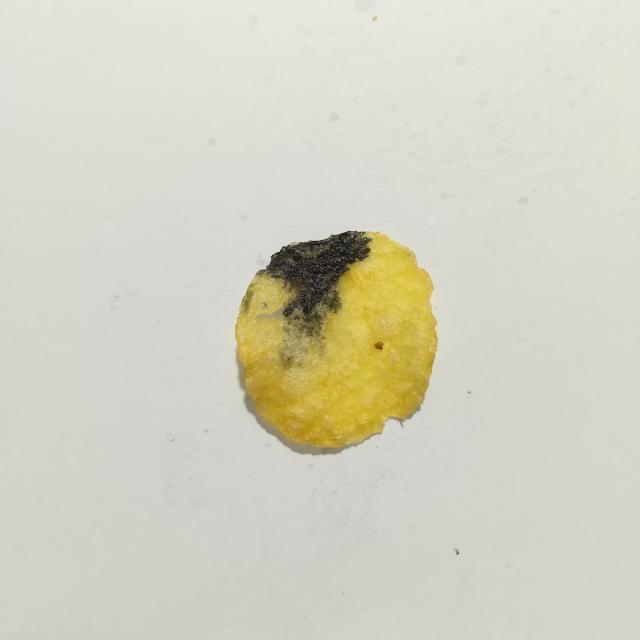chip: (235, 231, 437, 447)
damaged: (263, 231, 371, 337), (374, 341, 384, 350)
semi-damaged: (280, 310, 325, 369), (239, 283, 254, 315)
